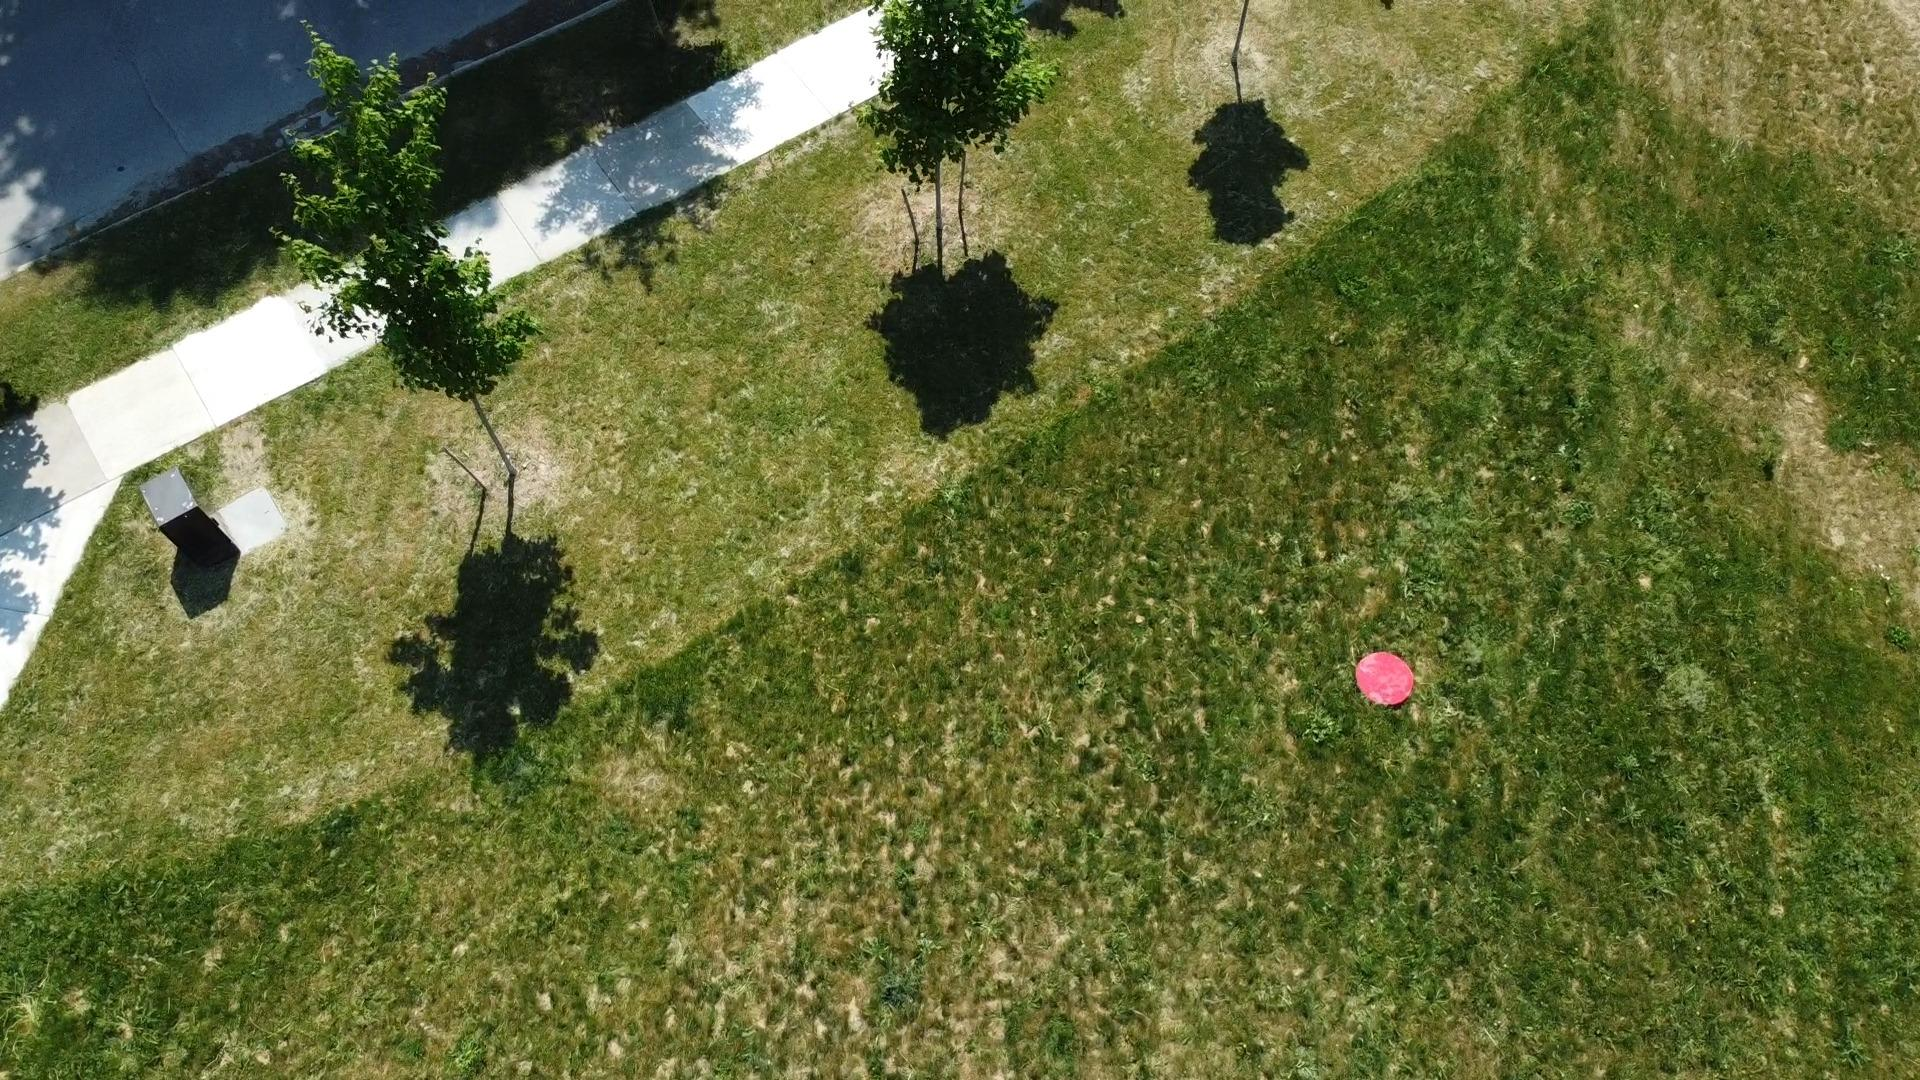Red: (1353, 650, 1415, 711)
